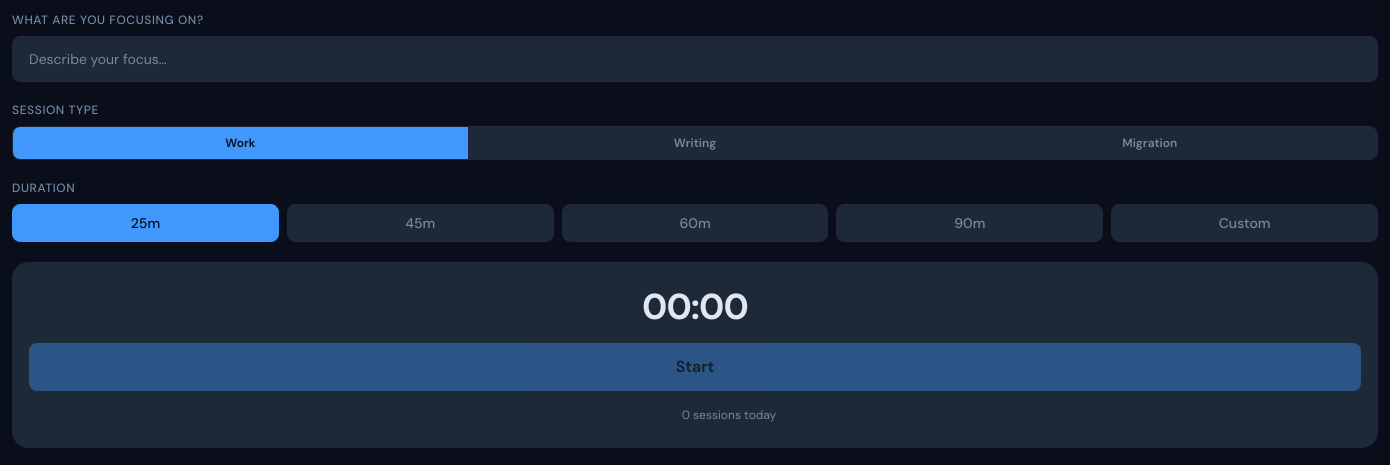
Test case: SessionPanel — idle state › Start button enables after typing a topic
The width and height of the screenshot is (1390, 465).
Type "Fix the bug" into the field labelled "What are you focusing on?" at (695, 59), box left=12, top=36, right=1378, bottom=82
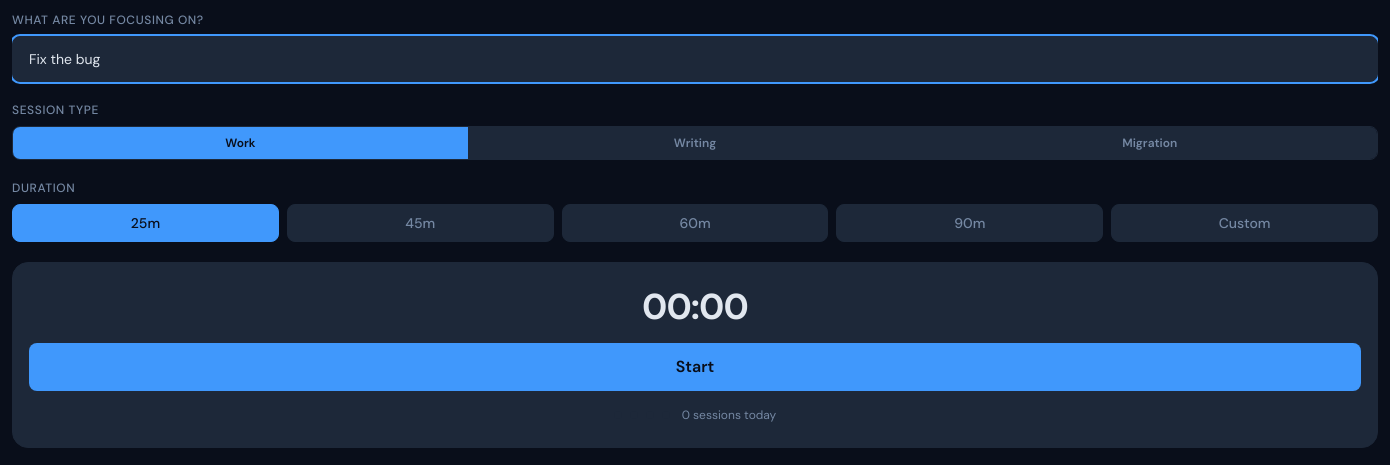
Expected: the button "Start" is enabled, left=29, top=343, right=1361, bottom=391
